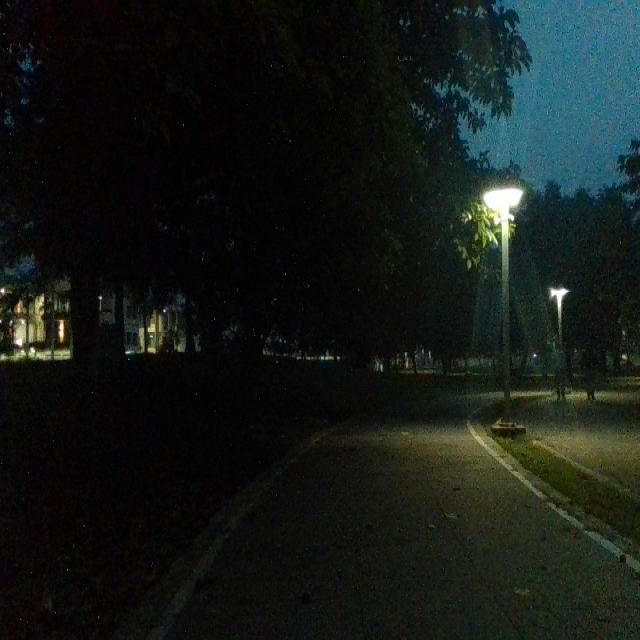lane: (171, 427, 640, 636)
